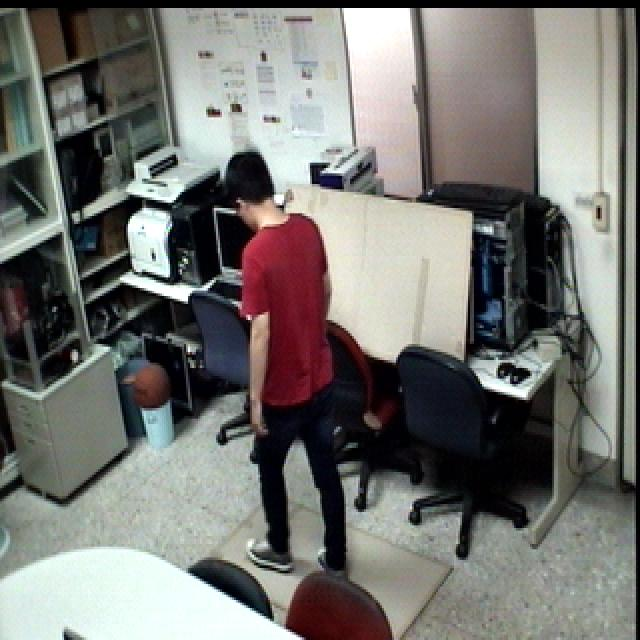stand: (217, 143, 352, 589)
